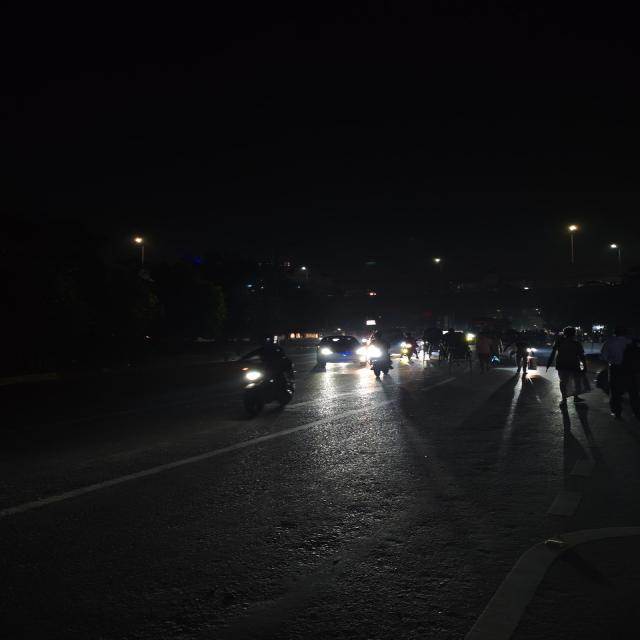bicycle: (364, 336, 397, 382), (505, 333, 540, 375)
car: (312, 331, 371, 372)
motorcycle: (227, 335, 302, 421)
pedestrian: (595, 324, 640, 432), (548, 326, 590, 406), (472, 336, 498, 374)
rickshaw: (438, 329, 468, 373)
